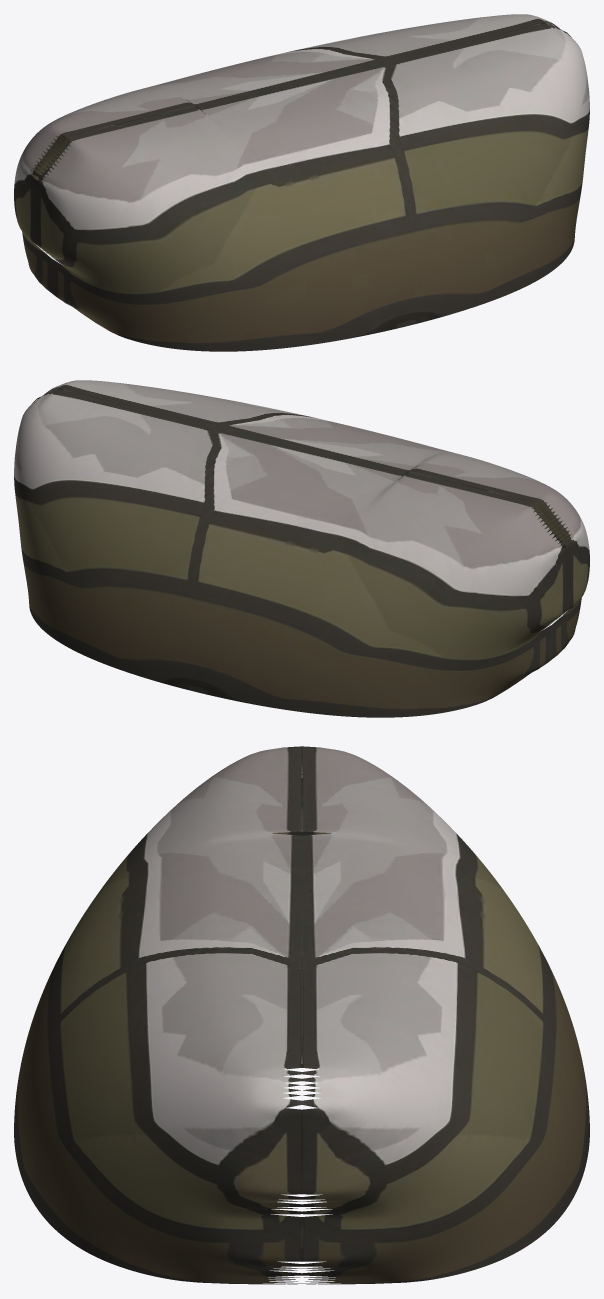
Rendered from straight_barrier.glb.
3 renders of one model, top to bottom at view 1: azimuth 30°, elevation 25°; view 2: azimuth 150°, elevation 25°; view 3: azimuth 270°, elevation 25°, orthographic. The views are drawn at different scales.
Parts seen in each view (by area): view 1: straight_barrier; view 2: straight_barrier; view 3: straight_barrier.
Part boxes in pixels (left/top/right/bottom): straight_barrier: left=14, top=14, right=589, bottom=351; straight_barrier: left=14, top=380, right=589, bottom=717; straight_barrier: left=14, top=746, right=589, bottom=1284.
Bounding box in the file's own units: 0.989 × 0.2989 × 0.6795.
1 material, 1 textured.
